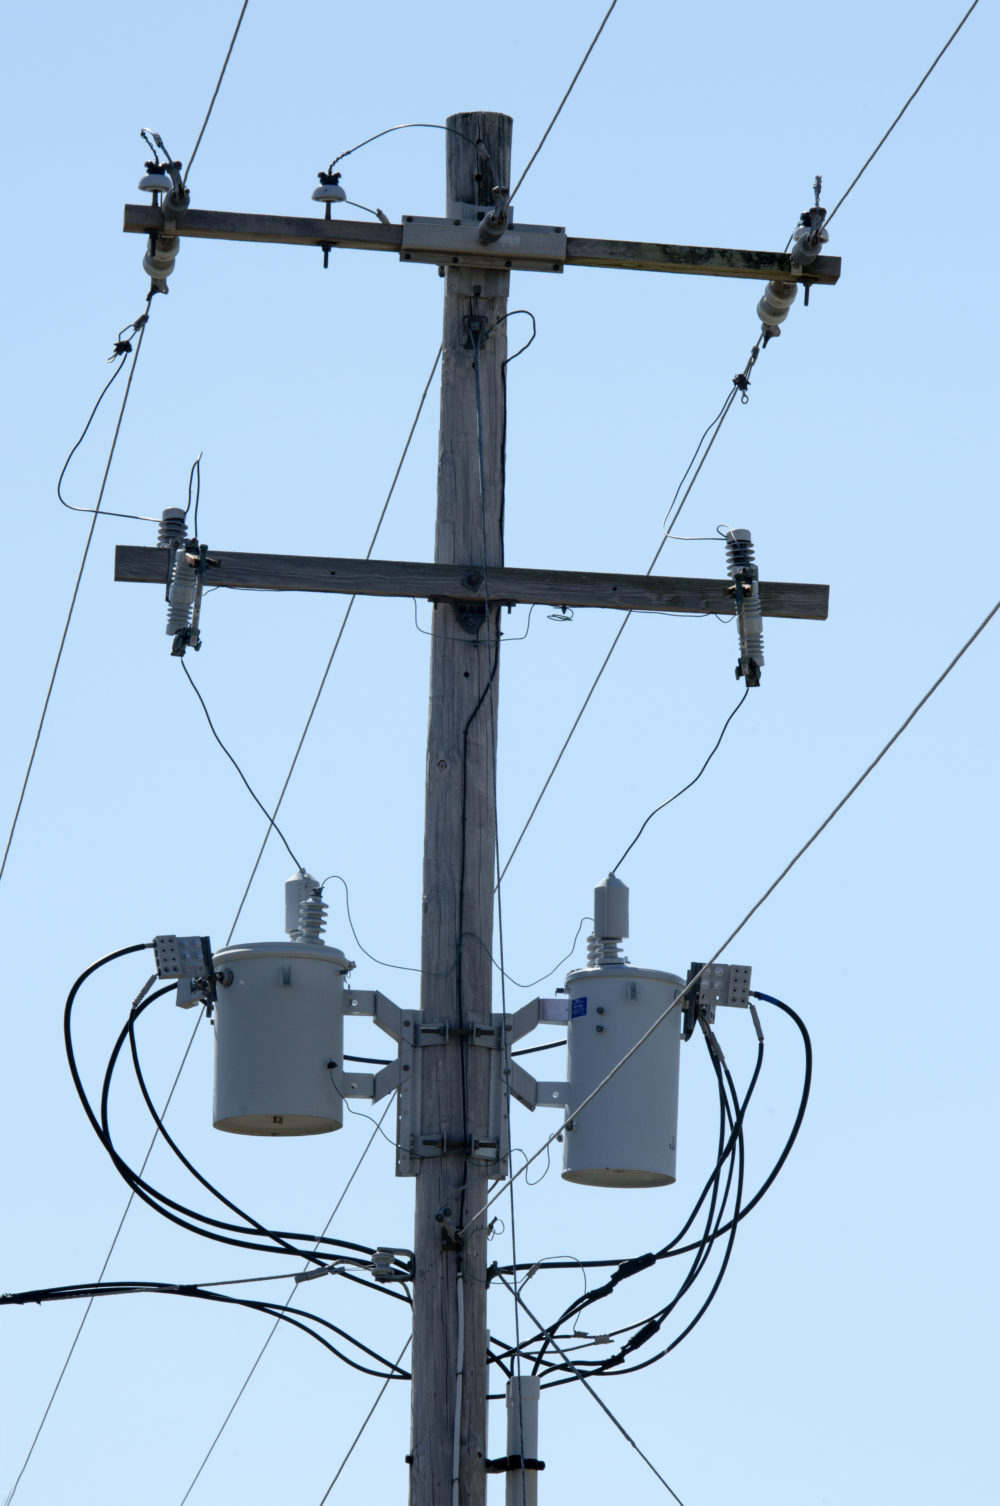utility_pole: (48, 58, 860, 1422)
